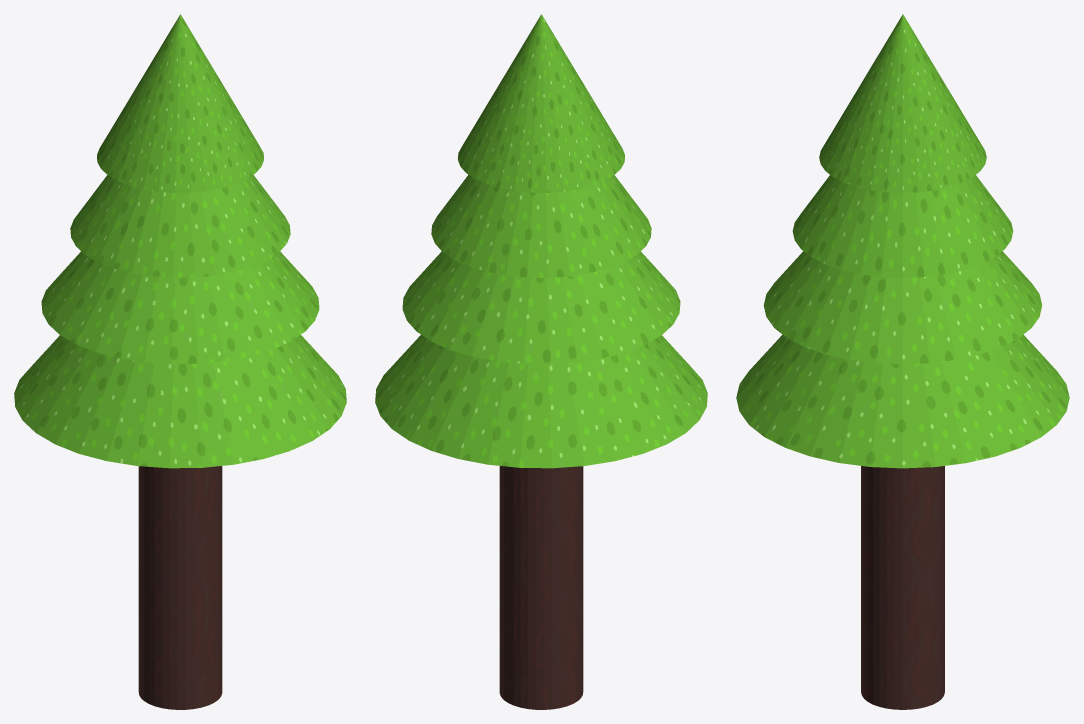
Rendered from tree.obj.
3 views of the same model, side by side, from view 1: azimuth 30°, elevation 25°; view 2: azimuth 150°, elevation 25°; view 3: azimuth 270°, elevation 25° (orthographic).
Visible parts, largest first — view 1: leaves_Cone, leaves.001_Cone.001, stump_Cylinder.001, leaves.003_Cone.003, leaves.002_Cone.002; view 2: leaves_Cone, leaves.001_Cone.001, stump_Cylinder.001, leaves.003_Cone.003, leaves.002_Cone.002; view 3: leaves_Cone, leaves.001_Cone.001, stump_Cylinder.001, leaves.003_Cone.003, leaves.002_Cone.002.
Part boxes in pixels (x1=…): leaves_Cone: x1=14, y1=335, x2=346, y2=468; leaves.001_Cone.001: x1=41, y1=251, x2=319, y2=364; stump_Cylinder.001: x1=138, y1=466, x2=222, y2=709; leaves.003_Cone.003: x1=97, y1=14, x2=263, y2=192; leaves.002_Cone.002: x1=70, y1=175, x2=290, y2=277; leaves_Cone: x1=375, y1=335, x2=707, y2=468; leaves.001_Cone.001: x1=402, y1=251, x2=680, y2=364; stump_Cylinder.001: x1=499, y1=466, x2=583, y2=709; leaves.003_Cone.003: x1=458, y1=14, x2=624, y2=192; leaves.002_Cone.002: x1=431, y1=175, x2=651, y2=277; leaves_Cone: x1=736, y1=334, x2=1069, y2=468; leaves.001_Cone.001: x1=763, y1=251, x2=1042, y2=364; stump_Cylinder.001: x1=861, y1=466, x2=944, y2=709; leaves.003_Cone.003: x1=819, y1=14, x2=986, y2=192; leaves.002_Cone.002: x1=792, y1=175, x2=1013, y2=277.
Bounding box in the file's own units: 4.07 × 9.14 × 4.07.
Materials: 2 (2 with a texture image).
